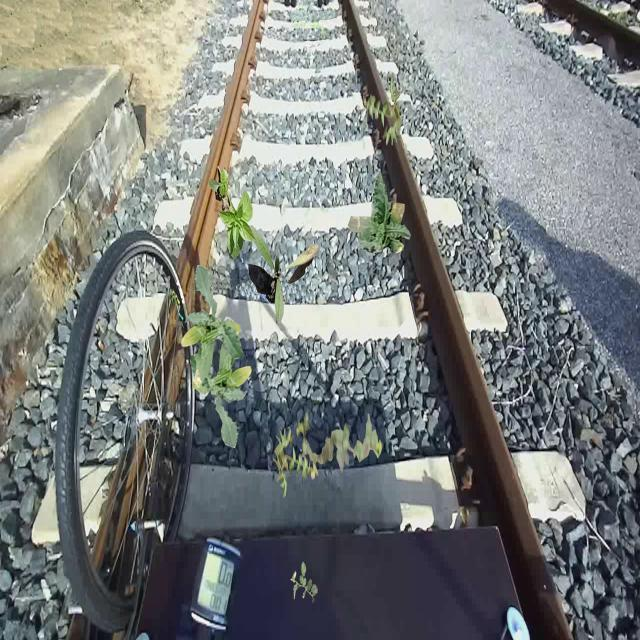Plant: (181, 264, 244, 388), (190, 324, 252, 448), (248, 225, 320, 324), (296, 411, 382, 479), (348, 171, 412, 254), (209, 165, 257, 260), (363, 75, 404, 146), (273, 427, 314, 498), (290, 562, 318, 603)
